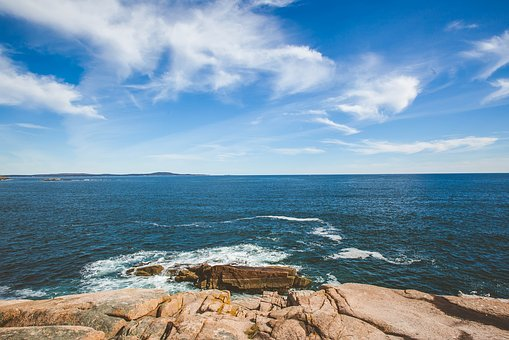sea: (4, 173, 509, 296)
sky: (1, 1, 507, 173)
stone: (8, 296, 509, 337)
